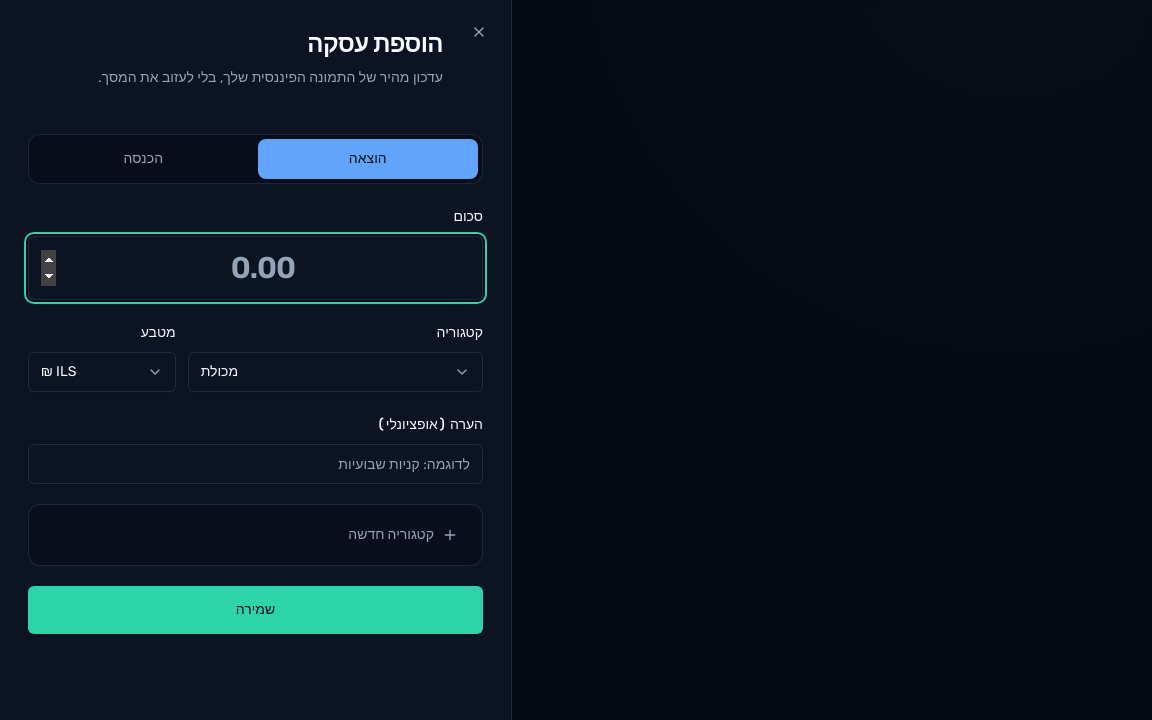
Scenario: creates a category inline and selects the returned category
Click the button "קטגוריה חדשה": (391, 534) 41,517 -> 470,553
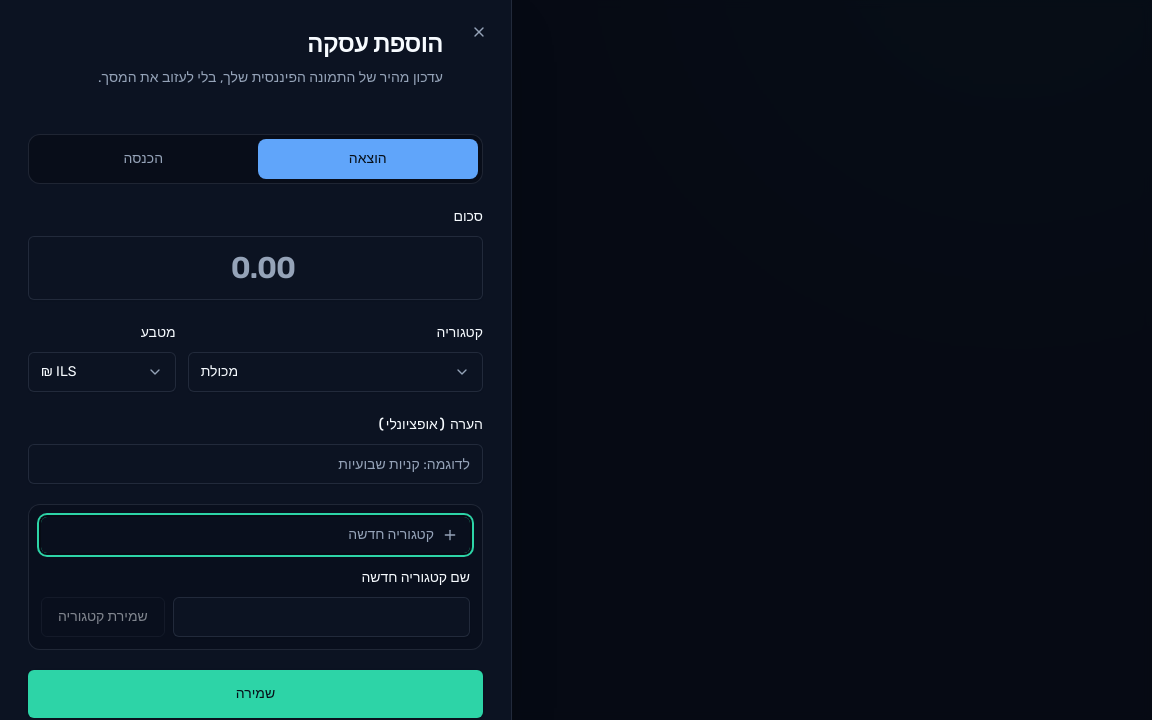
In the field labelled "שם קטגוריה חדשה": (321, 617) 173,597 -> 470,637, type "  ביטוח  "
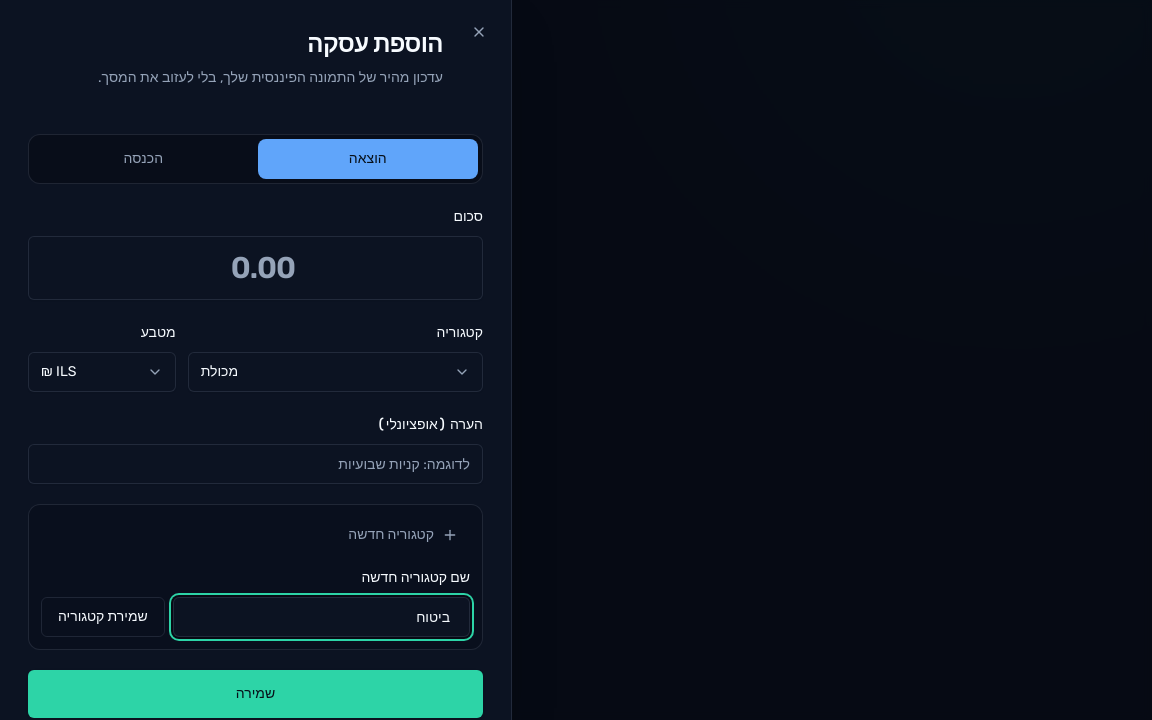
Click the button "שמירת קטגוריה": (103, 617) 41,597 -> 165,637
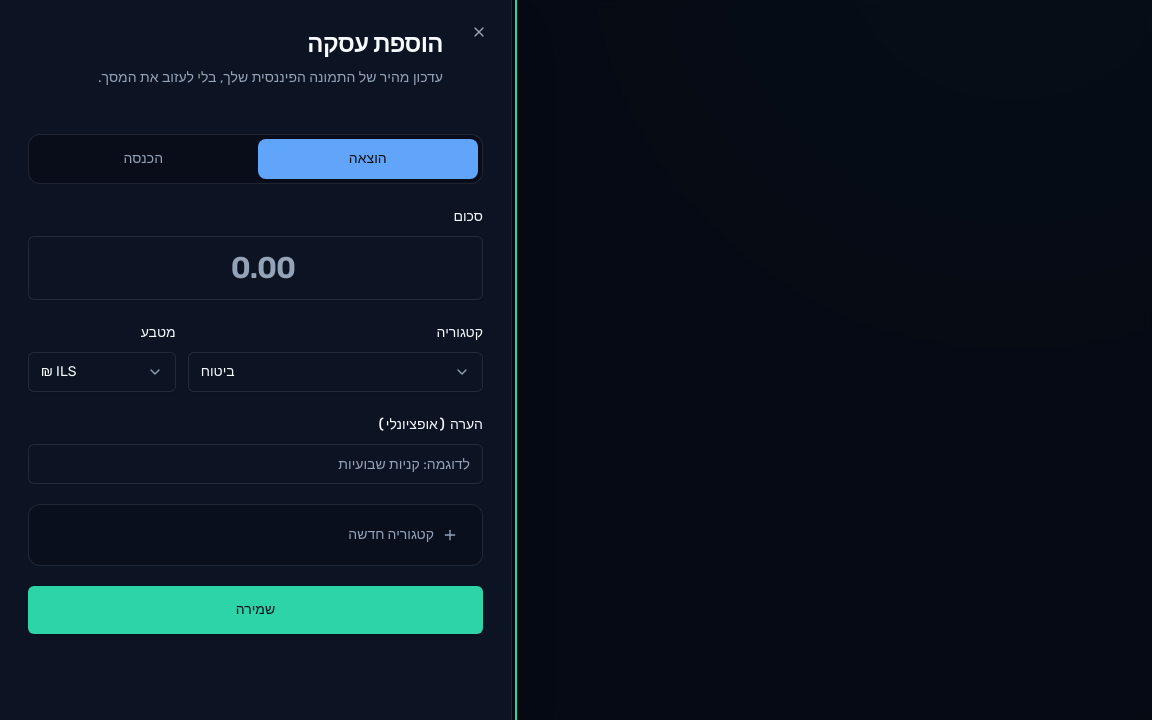
Expected: the dropdown named "קטגוריה" reads "ביטוח", 188,352 -> 483,392
